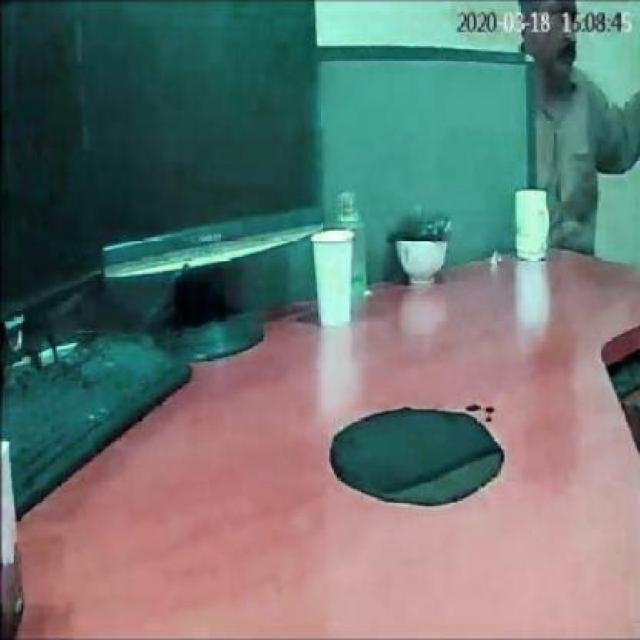spillage: (329, 405, 505, 510)
